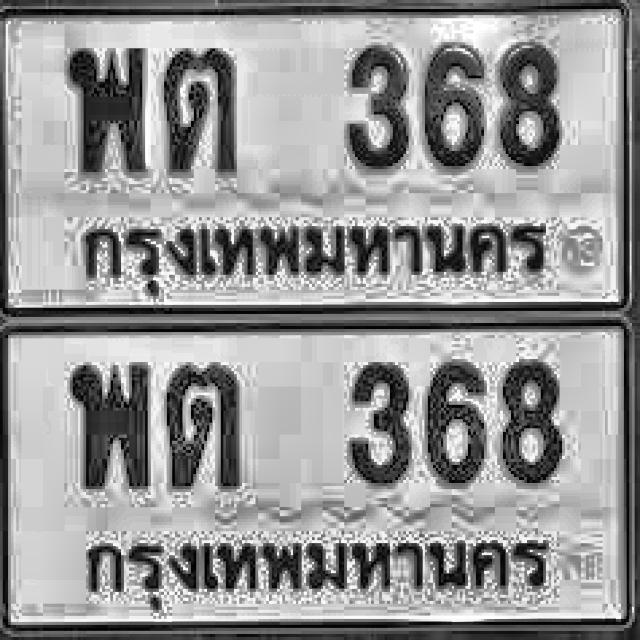license-plate: (3, 321, 640, 640), (0, 0, 640, 315)
